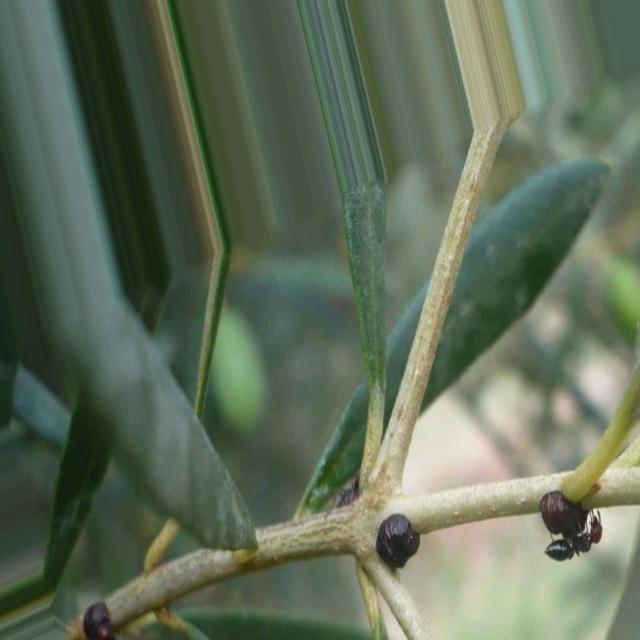Black Scale: (376, 513, 420, 571), (540, 491, 588, 539), (82, 601, 116, 639)
